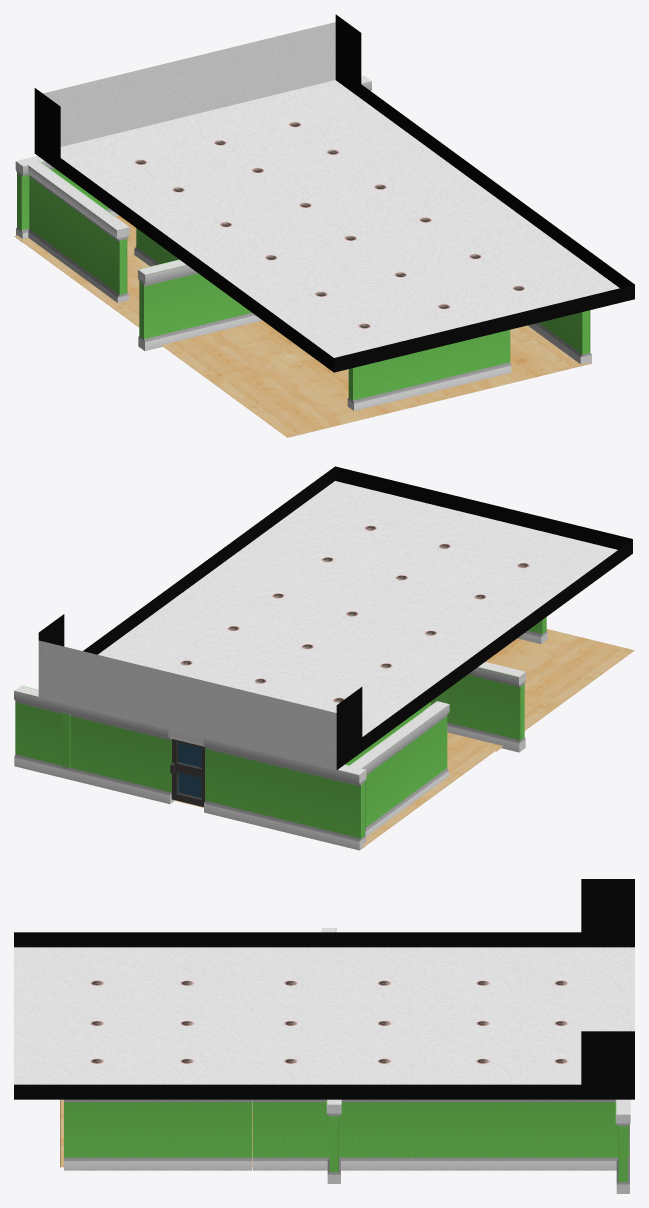
File: Building.fbx
3 renders of one model, top to bottom at view 1: azimuth 30°, elevation 25°; view 2: azimuth 150°, elevation 25°; view 3: azimuth 270°, elevation 25°, orthographic. The views are drawn at different scales.
Visible parts, largest first — view 1: Wall; view 2: Wall; view 3: Wall.
Boxes of the visible parts, left/top/right/bottom form: Wall: left=14, top=14, right=634, bottom=437; Wall: left=14, top=466, right=634, bottom=850; Wall: left=14, top=879, right=634, bottom=1193.
Bounding box in the file's own units: 926 × 345 × 1303.
